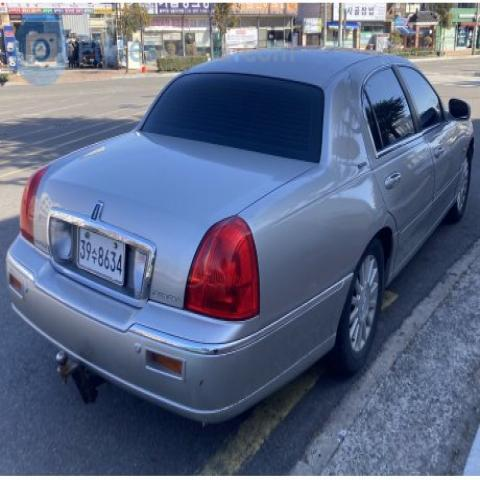LP: (67, 214, 136, 299)
